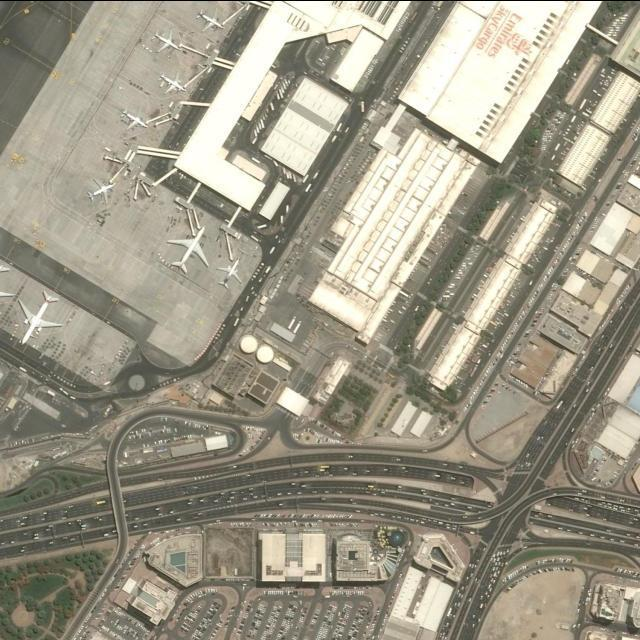Aircraft: (15, 290, 60, 344), (164, 227, 208, 277), (215, 259, 242, 289), (85, 178, 115, 204), (148, 29, 178, 53), (119, 106, 147, 130), (157, 71, 185, 95), (194, 9, 222, 33)
